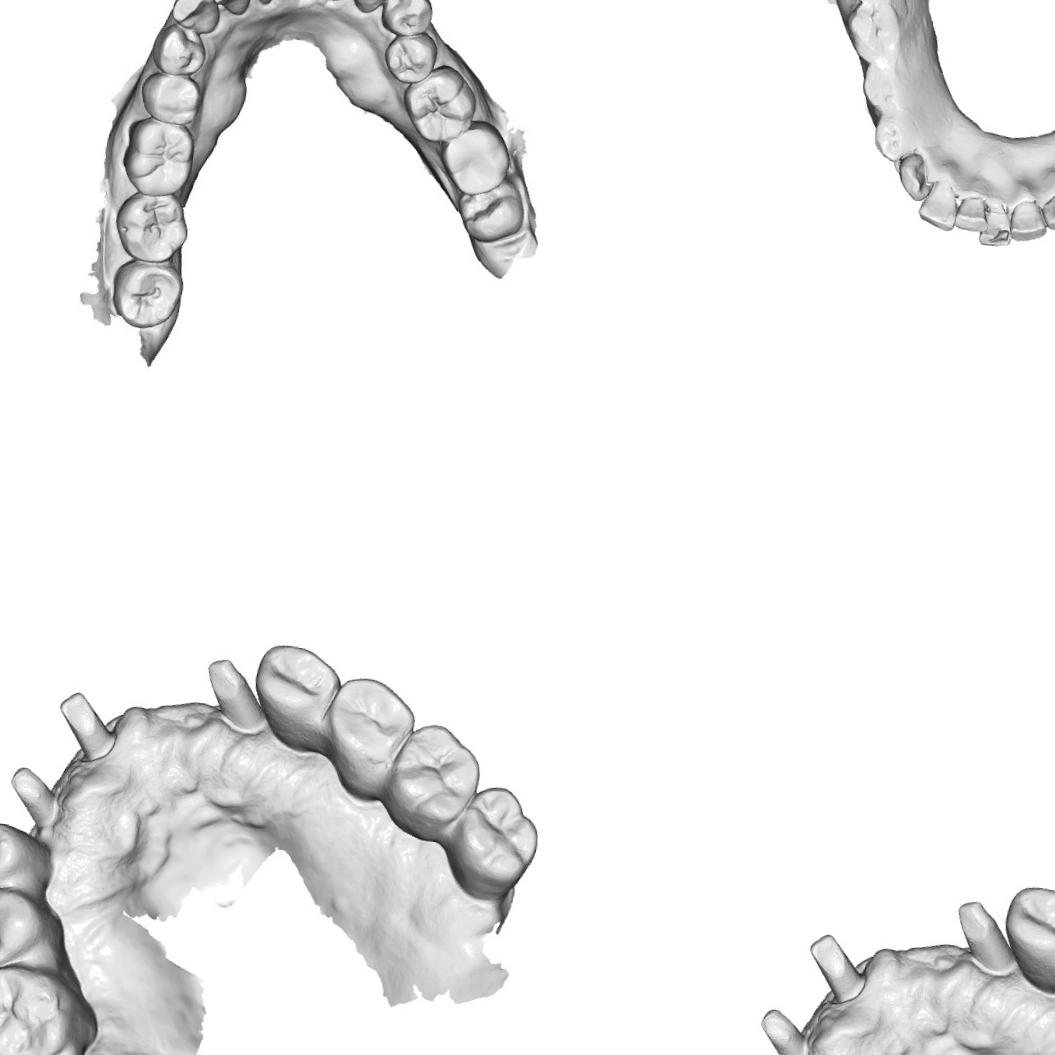abutment: (798, 930, 875, 1010), (196, 656, 270, 739), (48, 688, 124, 768), (946, 898, 1019, 981), (4, 761, 70, 833), (753, 1003, 819, 1055)
canine: (891, 150, 934, 204), (165, 0, 224, 33), (1038, 184, 1055, 233), (347, 0, 394, 17)
incisor: (916, 175, 964, 234), (976, 194, 1016, 252), (1007, 198, 1051, 246), (951, 192, 991, 236), (216, 0, 258, 18)
molar: (388, 719, 485, 831), (452, 781, 538, 891), (0, 960, 89, 1055), (122, 115, 199, 196), (114, 191, 189, 262), (454, 177, 525, 247), (406, 71, 476, 142), (112, 260, 183, 328), (839, 0, 907, 67), (442, 127, 510, 190)
premolar: (322, 674, 420, 780), (247, 638, 343, 735), (997, 880, 1055, 977), (0, 881, 49, 976), (0, 813, 39, 897), (148, 24, 207, 78), (144, 76, 198, 126), (870, 110, 918, 164), (857, 63, 905, 114), (386, 36, 434, 82), (387, 0, 436, 35)
